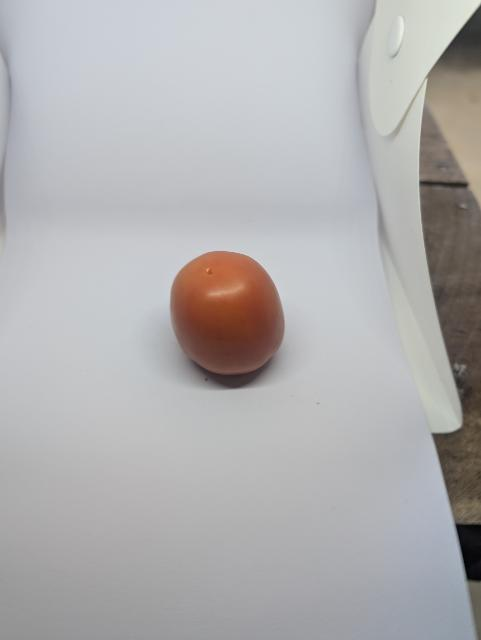red: (163, 239, 300, 396)
